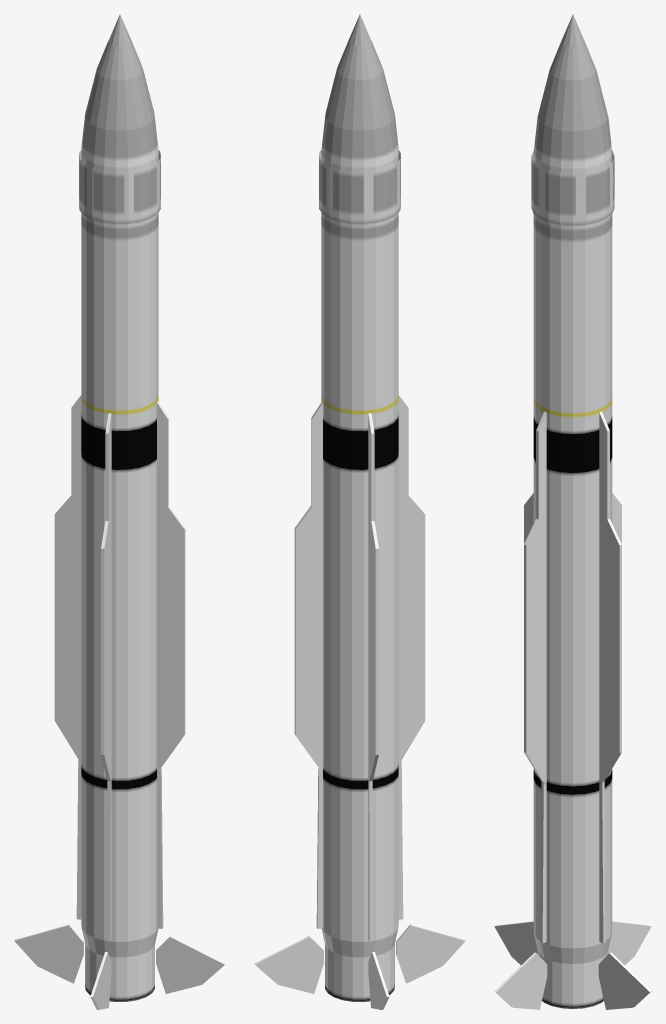
File: sm6_main.obj
The picture shows the model from 3 angles, left to right: view 1: azimuth 30°, elevation 25°; view 2: azimuth 150°, elevation 25°; view 3: azimuth 270°, elevation 25°; orthographic projection.
Visible parts, largest first — view 1: sm6_main; view 2: sm6_main; view 3: sm6_main.
Boxes of the visible parts, left/top/right/bottom form: sm6_main: left=14, top=14, right=225, bottom=1009; sm6_main: left=254, top=14, right=465, bottom=1009; sm6_main: left=494, top=14, right=651, bottom=1009.
Size of the model in its own units: 28.67 by 197 by 28.67.
